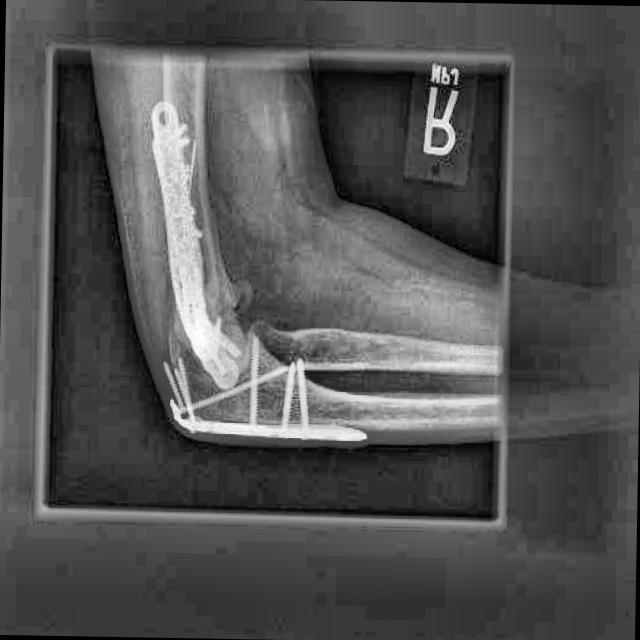elbow positive: (199, 259, 263, 354)
